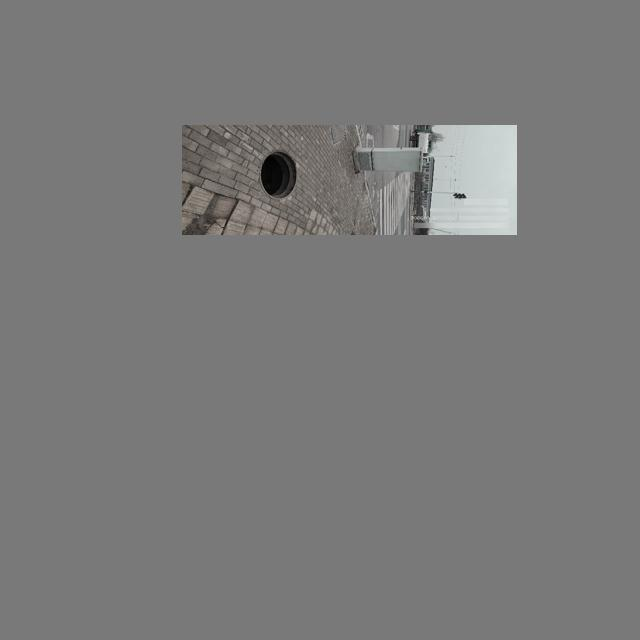lose: (260, 151, 298, 199)
